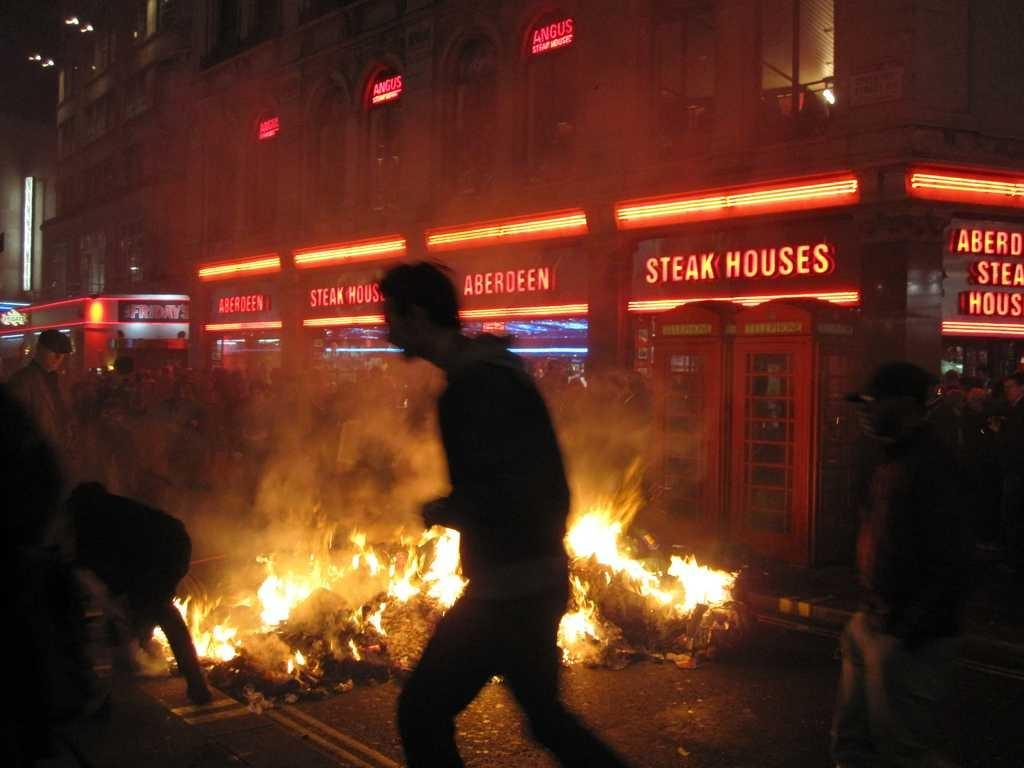fire: (594, 514, 728, 612), (242, 566, 326, 626), (426, 532, 472, 590)
smoke: (170, 352, 412, 486)
